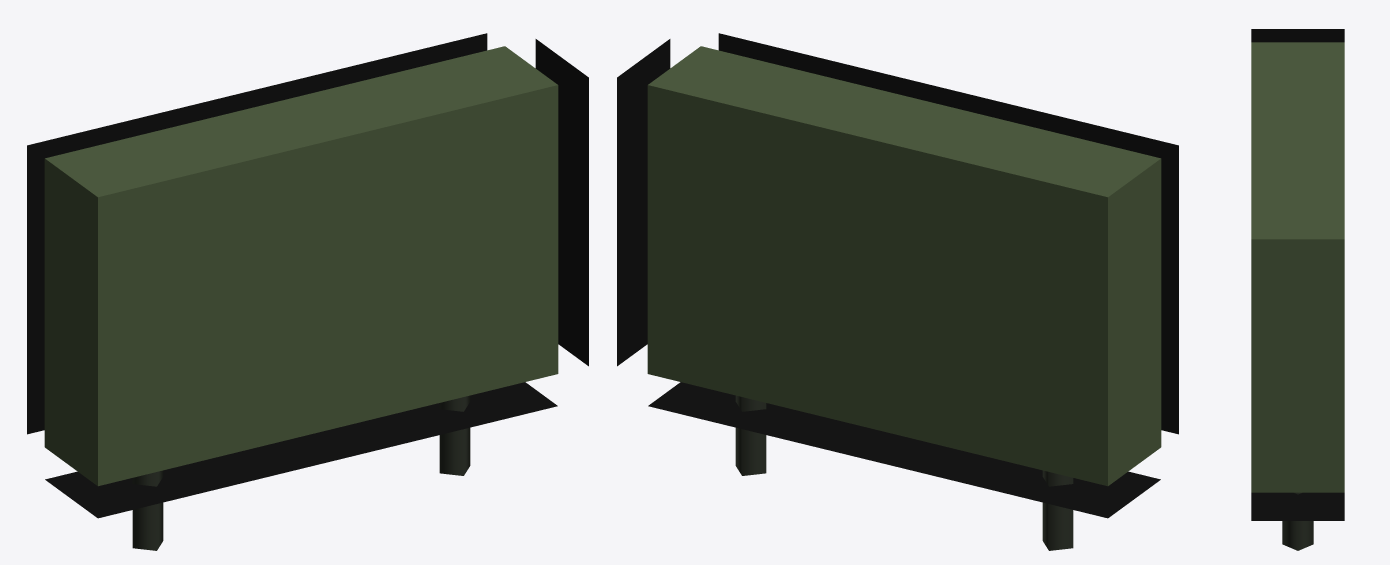
Rendered from equipment_claymore.glb.
3 renders of one model, left to right at view 1: azimuth 30°, elevation 25°; view 2: azimuth 150°, elevation 25°; view 3: azimuth 270°, elevation 25°, orthographic. The views are drawn at different scales.
Visible parts, largest first — view 1: equipment_claymore__part_1, equipment_claymore__outline_2, equipment_claymore__part_4, equipment_claymore__part_3; view 2: equipment_claymore__part_1, equipment_claymore__outline_2, equipment_claymore__part_4, equipment_claymore__part_3; view 3: equipment_claymore__part_1, equipment_claymore__outline_2, equipment_claymore__part_4.
Part boxes in pixels (box(x1,y1,x2,y2)): equipment_claymore__part_1: box(44, 46, 558, 486); equipment_claymore__outline_2: box(27, 33, 588, 518); equipment_claymore__part_4: box(439, 395, 470, 475); equipment_claymore__part_3: box(132, 470, 163, 550); equipment_claymore__part_1: box(647, 46, 1161, 486); equipment_claymore__outline_2: box(617, 33, 1178, 518); equipment_claymore__part_4: box(735, 395, 766, 475); equipment_claymore__part_3: box(1042, 470, 1073, 550); equipment_claymore__part_1: box(1251, 42, 1344, 492); equipment_claymore__outline_2: box(1251, 29, 1344, 520); equipment_claymore__part_4: box(1282, 492, 1313, 550).
Bounding box in the file's own units: 0.34 × 0.26 × 0.1.
